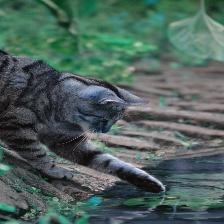kedo: (0, 50, 165, 193)
